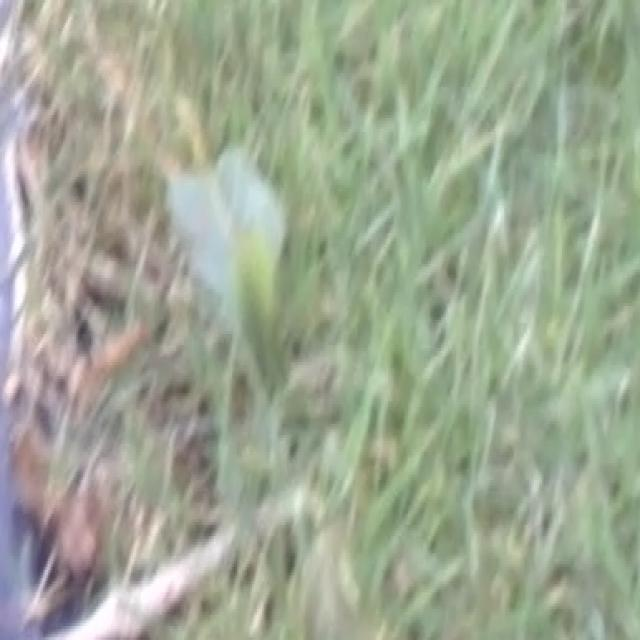organic waste: (127, 115, 356, 436)
